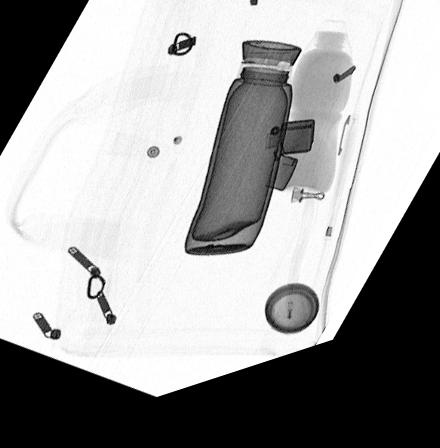Lighter: (264, 138, 315, 209)
